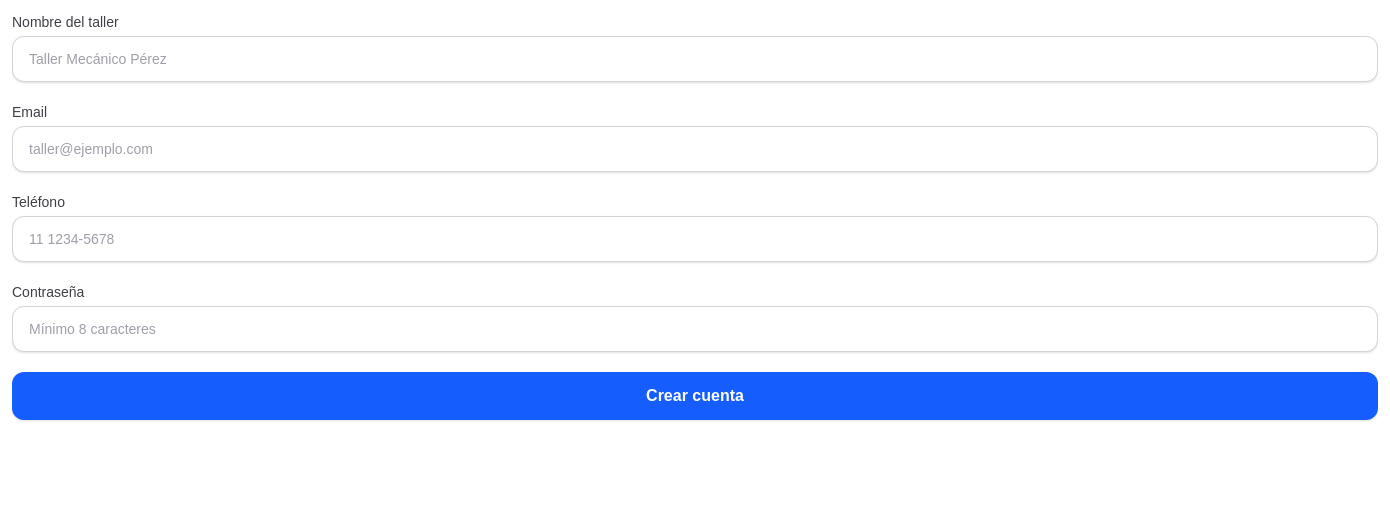
Test: RegisterForm › validation › shows email error for invalid format
The image size is (1390, 513).
In the field labelled "Email": [695, 149] box [12, 126, 1378, 172], type "invalido"
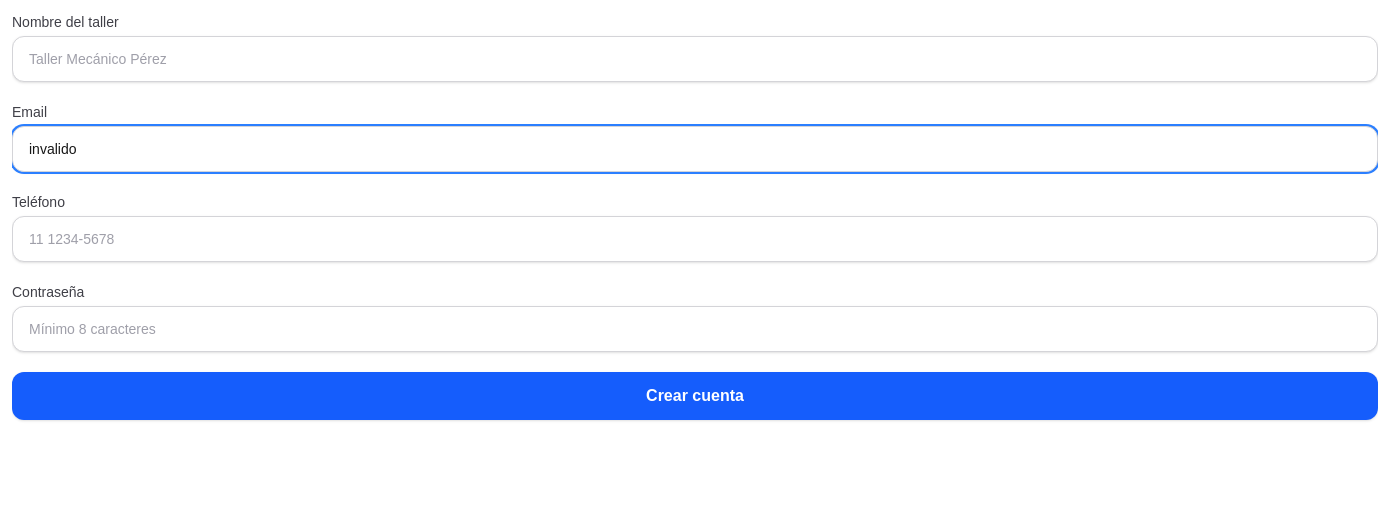
In the password field labelled "Contraseña": [695, 329] box [12, 306, 1378, 352], type "password123"
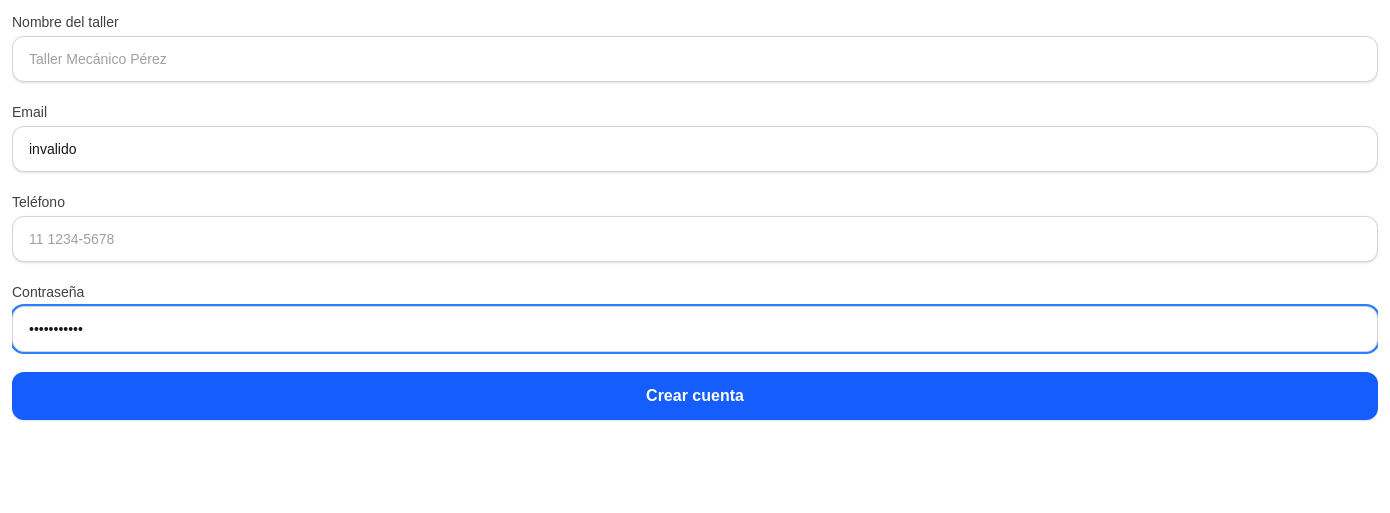
Click the button "Crear cuenta": [695, 396] box [12, 372, 1378, 420]
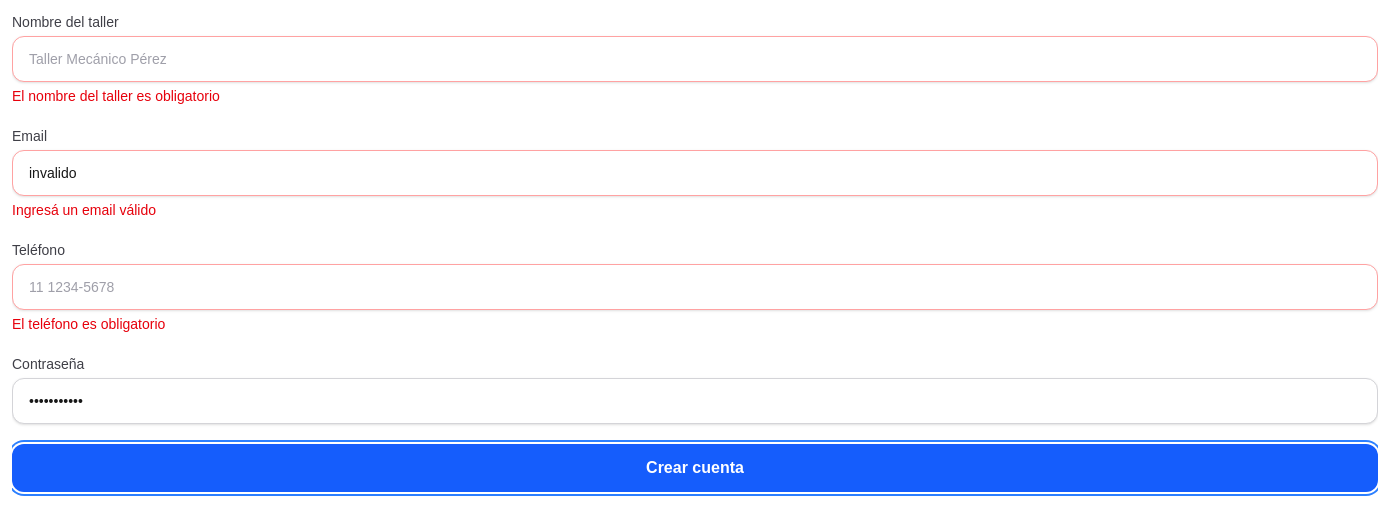
Check: the text "Ingresá un email válido" is shown, box [12, 202, 156, 218]
